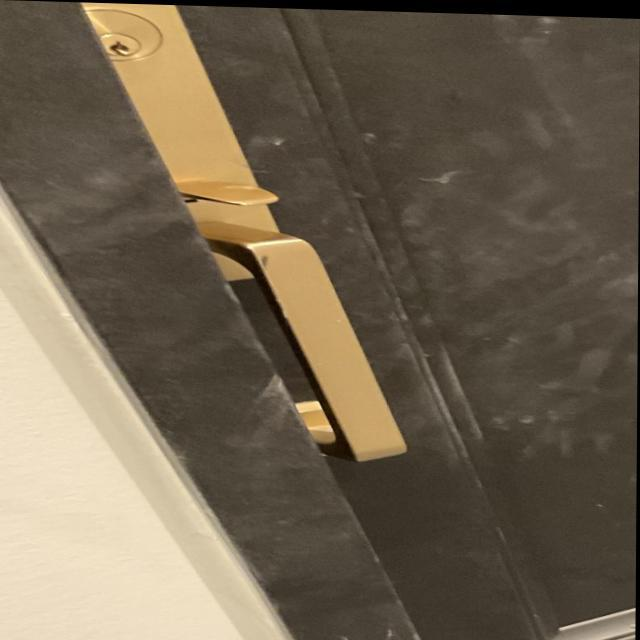door_handle: (197, 223, 449, 467)
